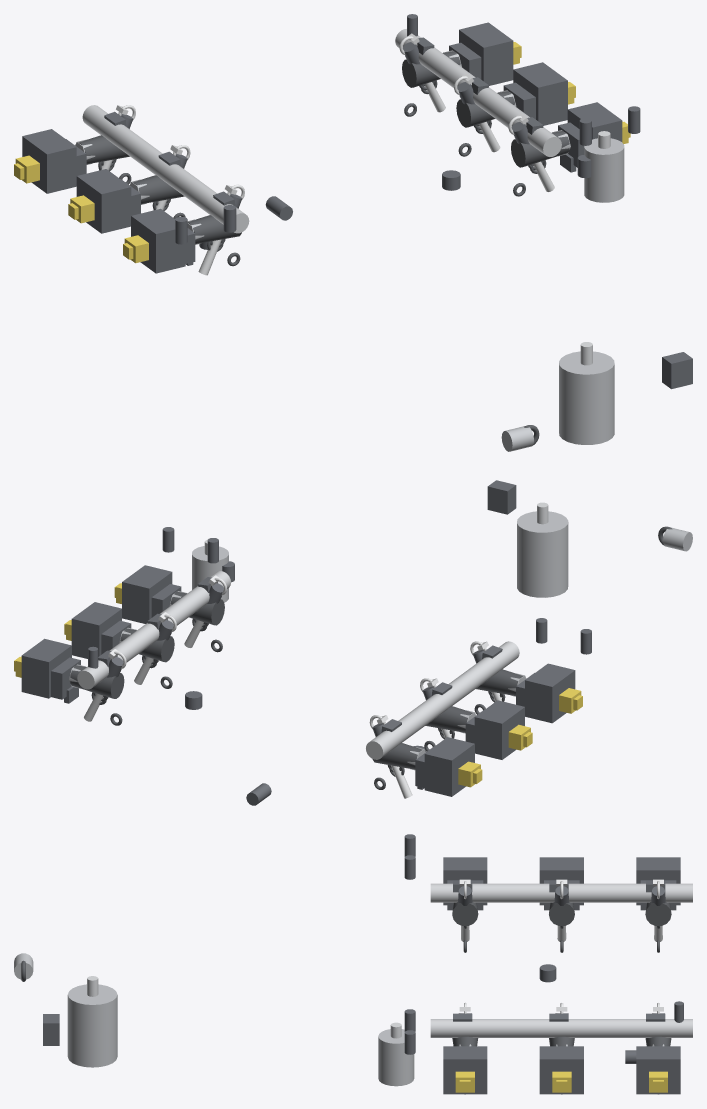
File: plugs.glb
The picture shows the model from 3 angles, top to bottom: view 1: azimuth 30°, elevation 25°; view 2: azimuth 150°, elevation 25°; view 3: azimuth 270°, elevation 25°; orthographic projection. The views are drawn at different scales.
Visible parts, largest first — view 1: lpPumpBody, hpFuelRailBank2, hpFuelRailBank1, coilBody_b2_1, coilBody_b2_2, coilBody_b2_0, coilBody_b1_2, coilBody_b1_1, hpPumpBody, coilBody_b1_0, fuelPumpRelay, coilBoot_b1_0 (+6 smaller); view 2: lpPumpBody, hpFuelRailBank2, hpFuelRailBank1, coilBody_b2_2, coilBody_b2_1, coilBody_b2_0, coilBody_b1_2, coilBody_b1_0, coilBody_b1_1, hpPumpBody, fuelPumpRelay, coilBoot_b1_2 (+9 smaller); view 3: hpFuelRailBank1, hpFuelRailBank2, lpPumpBody, coilBody_b1_1, coilBody_b1_2, coilBody_b1_0, hpPumpBody, coilBody_b2_2, coilBody_b2_0, coilBody_b2_1, fuelPumpRelay, coilBoot_b2_2 (+2 smaller).
Boxes of the visible parts, bbox=[...] form: lpPumpBody: bbox=[559, 351, 614, 444]; hpFuelRailBank2: bbox=[82, 105, 249, 233]; hpFuelRailBank1: bbox=[395, 29, 561, 156]; coilBody_b2_1: bbox=[76, 169, 131, 233]; coilBody_b2_2: bbox=[22, 129, 76, 193]; coilBody_b2_0: bbox=[131, 208, 185, 273]; coilBody_b1_2: bbox=[459, 22, 513, 85]; coilBody_b1_1: bbox=[513, 62, 567, 125]; hpPumpBody: bbox=[584, 138, 624, 202]; coilBody_b1_0: bbox=[567, 102, 622, 141]; fuelPumpRelay: bbox=[662, 352, 692, 389]; coilBoot_b1_0: bbox=[511, 131, 569, 167]; lpPumpBody: bbox=[517, 511, 568, 597]; hpFuelRailBank2: bbox=[366, 641, 519, 759]; hpFuelRailBank1: bbox=[77, 571, 230, 689]; coilBody_b2_2: bbox=[424, 737, 474, 796]; coilBody_b2_1: bbox=[474, 700, 524, 759]; coilBody_b2_0: bbox=[525, 663, 575, 723]; coilBody_b1_2: bbox=[21, 638, 71, 698]; coilBody_b1_0: bbox=[122, 565, 172, 623]; coilBody_b1_1: bbox=[71, 602, 121, 658]; hpPumpBody: bbox=[192, 546, 228, 602]; fuelPumpRelay: bbox=[487, 480, 516, 514]; coilBoot_b1_2: bbox=[70, 665, 124, 698]; hpFuelRailBank1: bbox=[430, 1019, 692, 1037]; hpFuelRailBank2: bbox=[430, 883, 692, 902]; lpPumpBody: bbox=[67, 984, 117, 1067]; coilBody_b1_1: bbox=[539, 1046, 583, 1094]; coilBody_b1_2: bbox=[636, 1046, 680, 1094]; coilBody_b1_0: bbox=[443, 1046, 487, 1094]; hpPumpBody: bbox=[378, 1029, 414, 1086]; coilBody_b2_2: bbox=[636, 857, 680, 905]; coilBody_b2_0: bbox=[443, 857, 487, 905]; coilBody_b2_1: bbox=[539, 857, 583, 905]; fuelPumpRelay: bbox=[43, 1014, 59, 1045]; coilBoot_b2_2: bbox=[645, 902, 671, 925].
Bounding box in the file's own units: 3.72 × 1.03 × 4.92.
